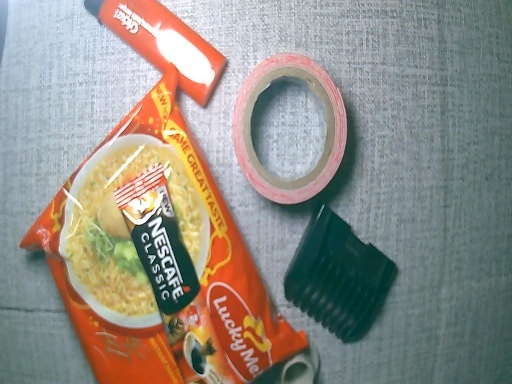plastic: (20, 62, 241, 384), (241, 241, 305, 381)
trash: (236, 54, 348, 202), (285, 203, 401, 344), (85, 1, 227, 106), (279, 346, 339, 384)
